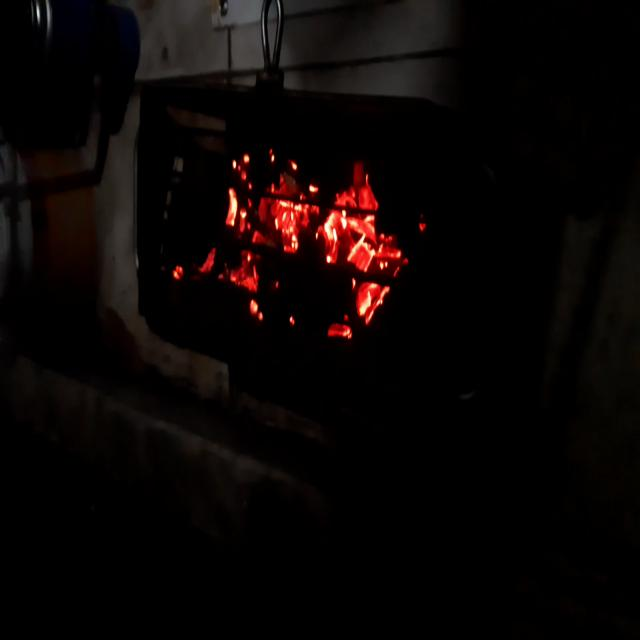Fire: (158, 122, 438, 355)
